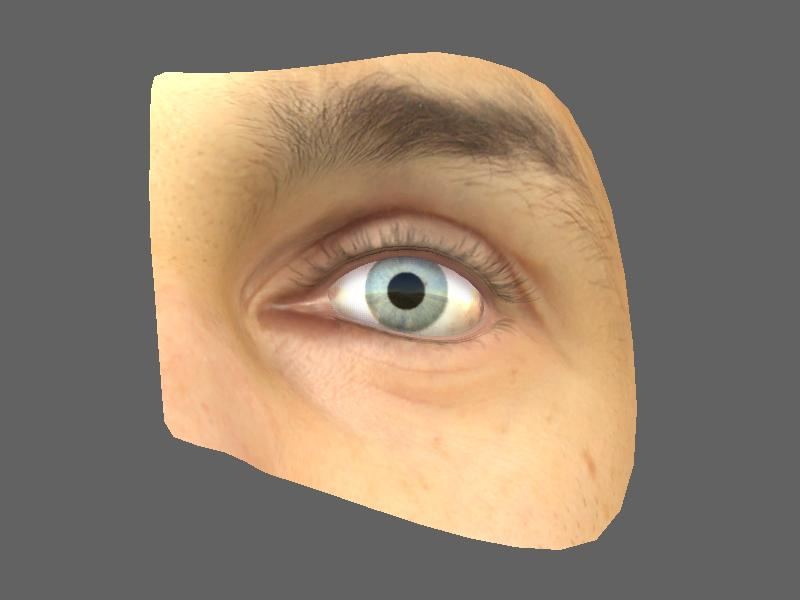iris: (366, 258, 451, 335)
